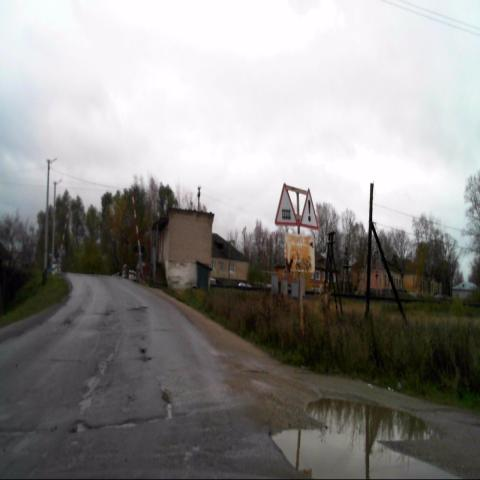1_1: (274, 183, 298, 226)
1_33: (298, 187, 320, 229)
